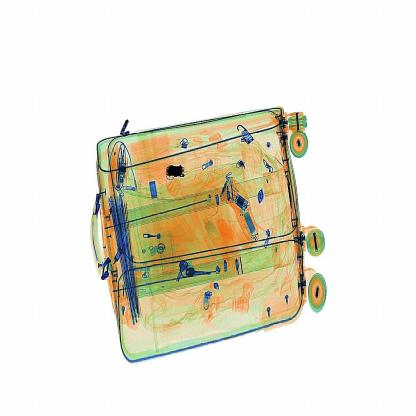scissors: (157, 158, 191, 192)
